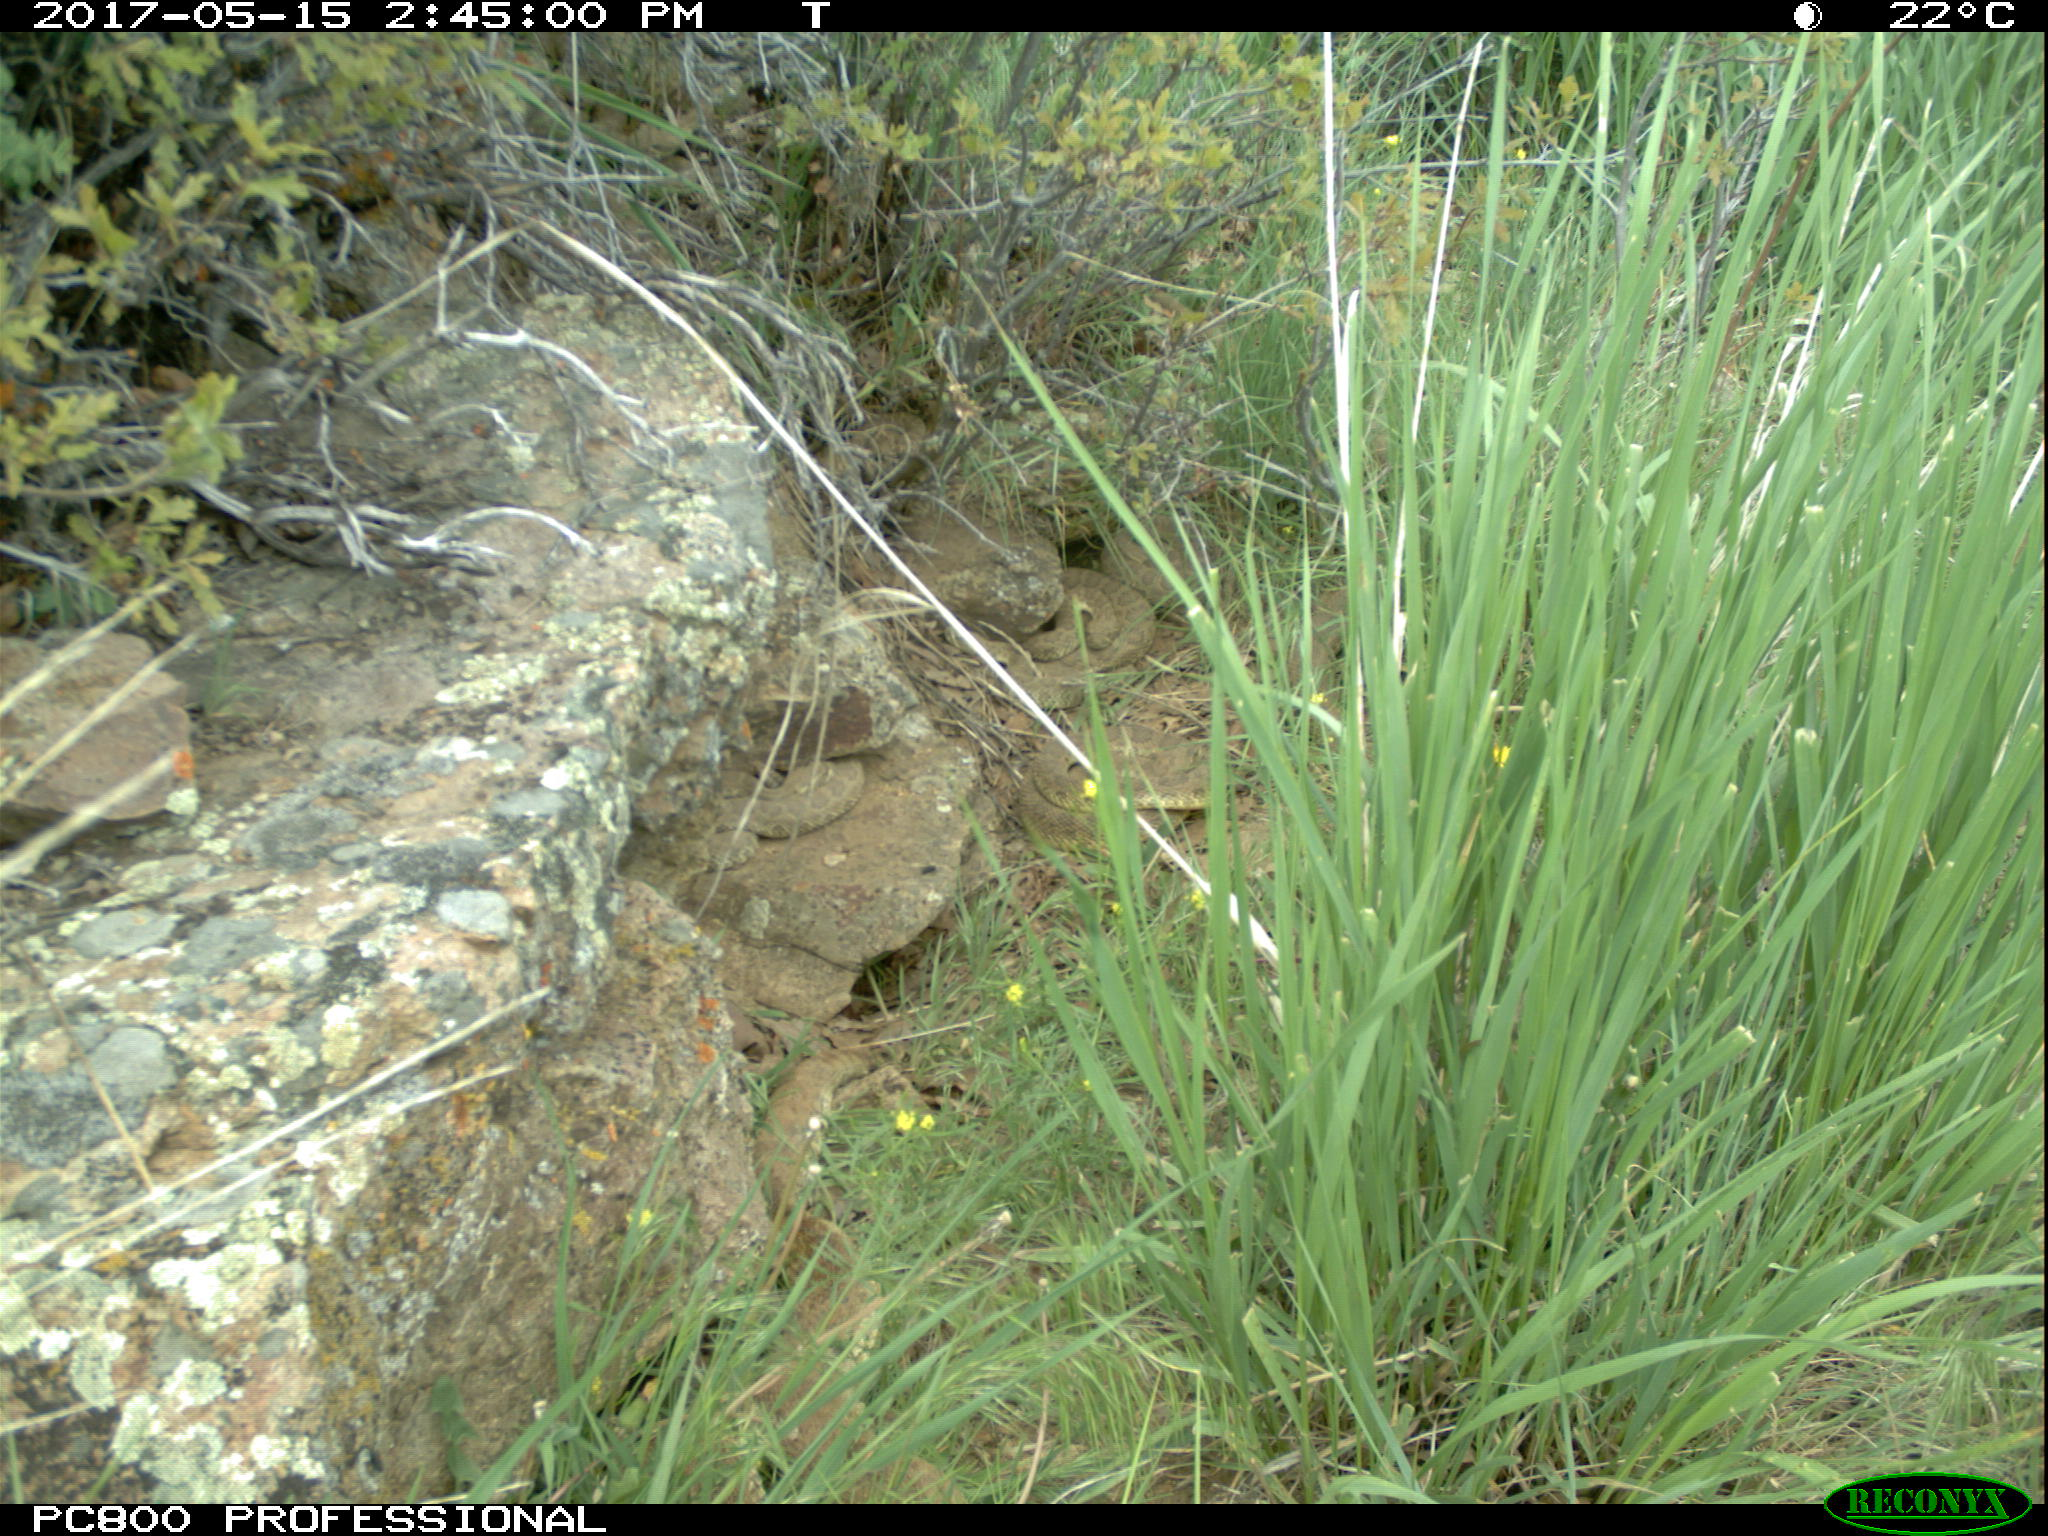snake: (751, 1050, 876, 1378), (1019, 728, 1222, 858), (705, 757, 864, 873), (1032, 565, 1156, 708)
